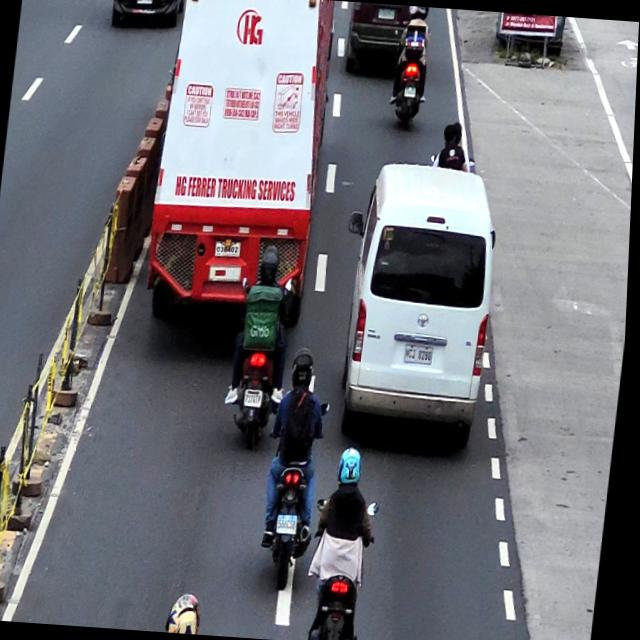Car: (327, 159, 508, 453), (344, 1, 415, 80)
License-Plate: (406, 344, 437, 366), (279, 514, 302, 534), (247, 390, 266, 408), (377, 7, 395, 20), (404, 86, 417, 98)
Motorcycle: (256, 397, 334, 590), (226, 274, 294, 450), (307, 494, 384, 640), (387, 26, 433, 124)
Truck: (143, 0, 340, 327)
